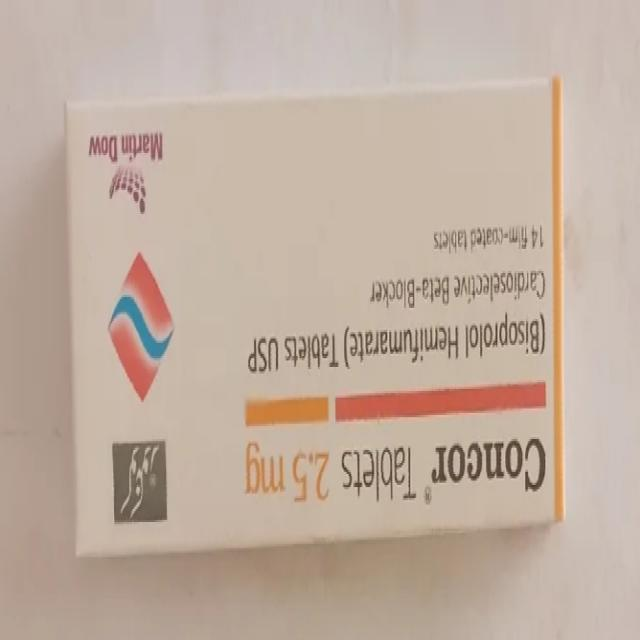drug-name: (420, 434, 550, 502)
